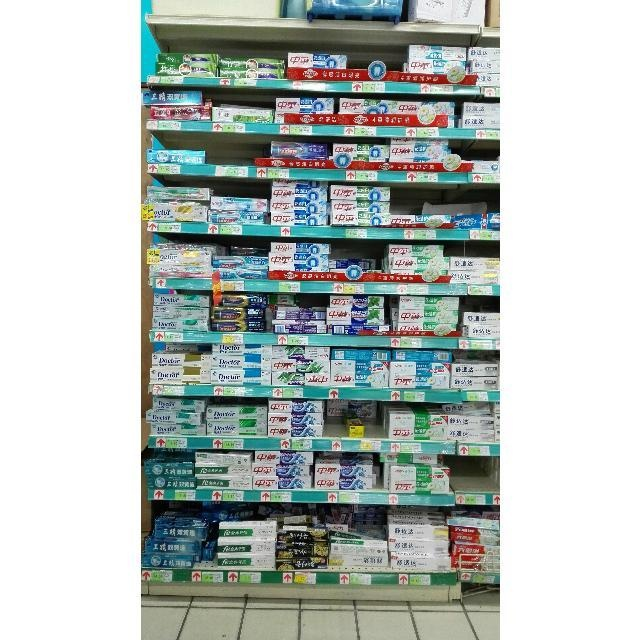empty: (149, 0, 281, 17), (450, 456, 499, 492), (204, 134, 254, 166)
front: (324, 416, 344, 438), (363, 417, 380, 437)
